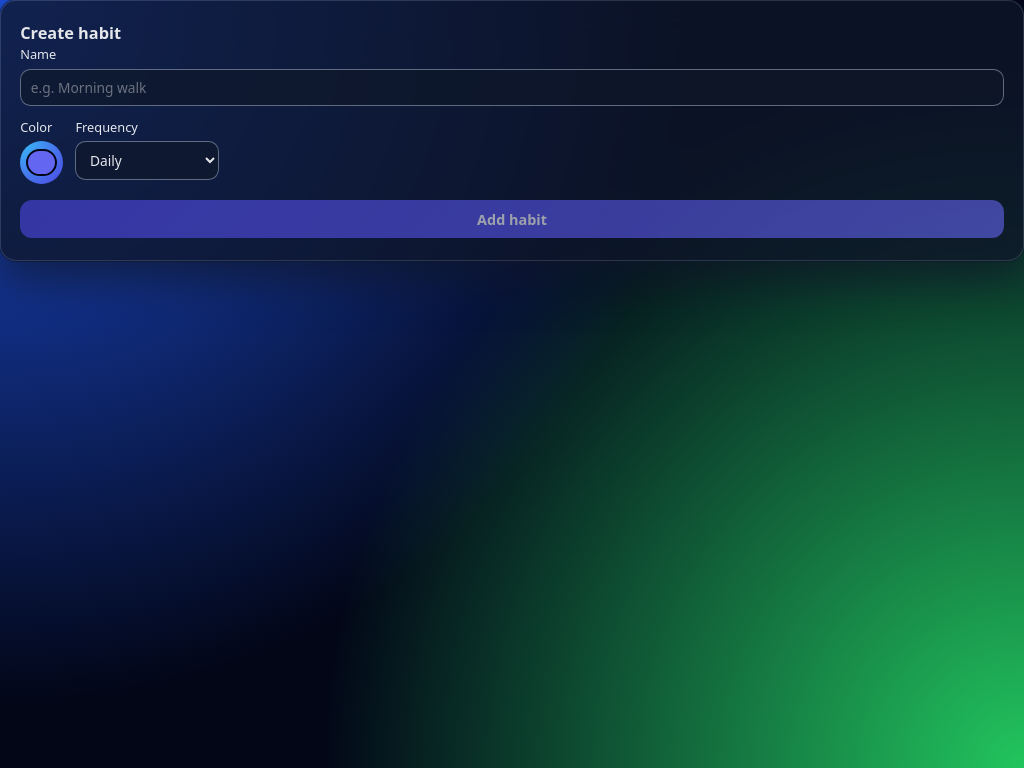
Scenario: HabitForm › disables submit when name is empty and enables when filled
Expected: the button "Add habit" is disabled, [20,200,1004,238]
Type " Morning walk " into the field labelled "Name". click: (512, 87)
box: [20,69,1004,106]
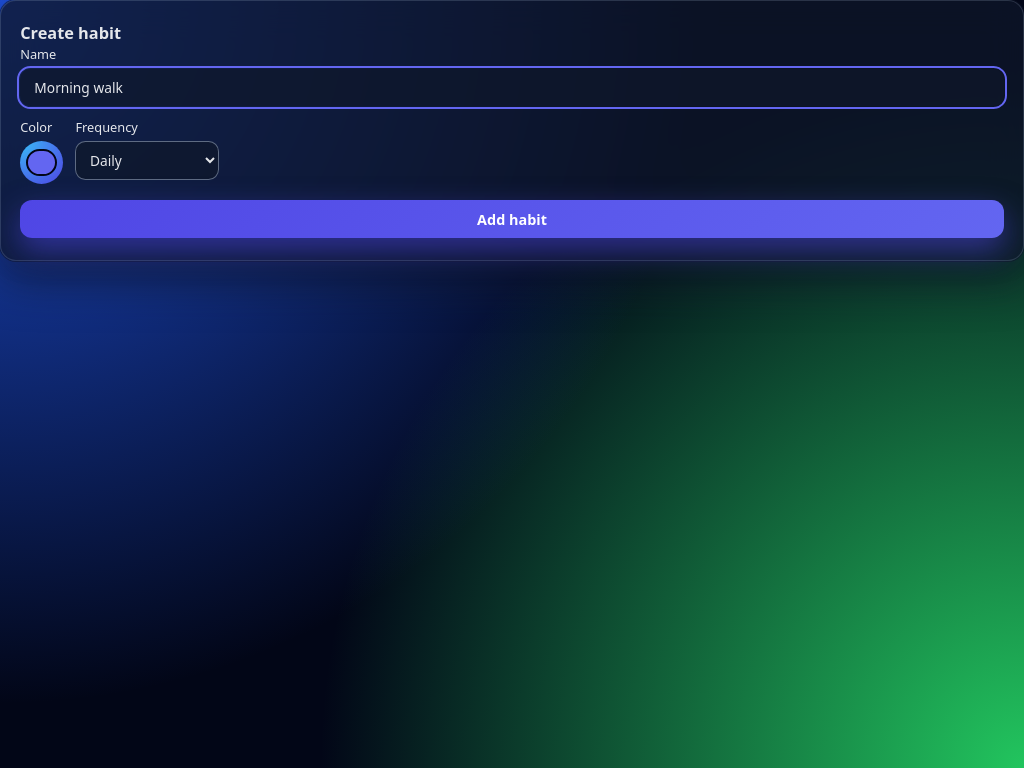
Now the button "Add habit" is enabled, box [20,200,1004,238]
